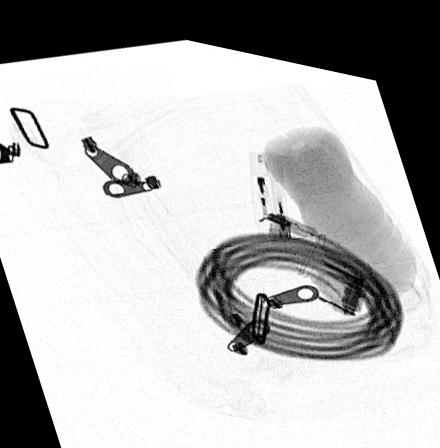Lighter: (248, 140, 291, 229)
